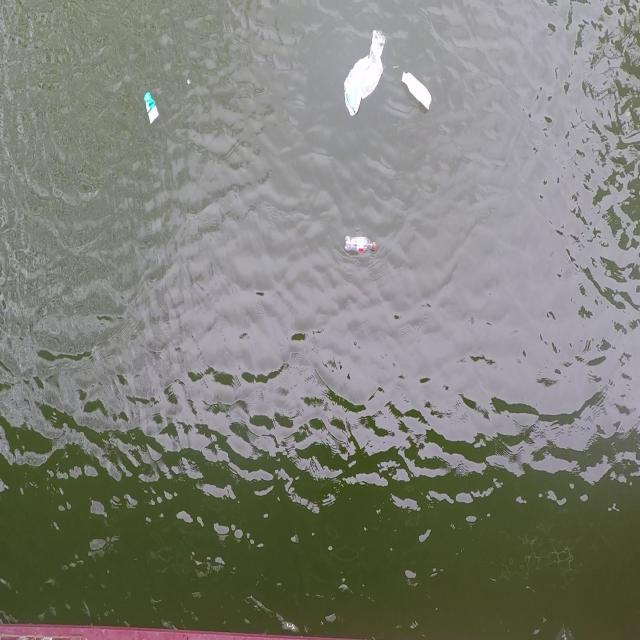Autre plastique: (399, 67, 437, 115)
Bouteille plastique: (340, 227, 382, 260)
Non plastique: (140, 88, 157, 112)
Sac plastique: (336, 27, 388, 122)
